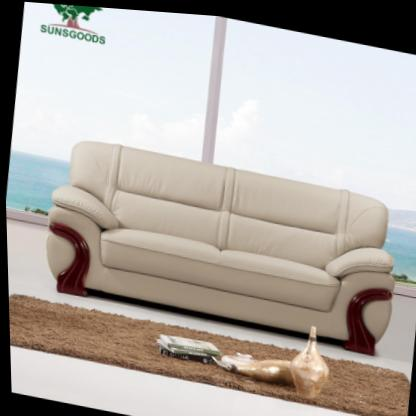Sofa: (34, 130, 404, 352)
